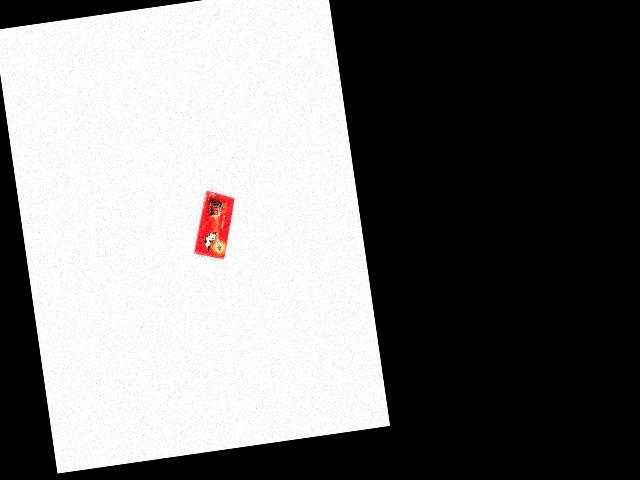chocolate: (185, 186, 243, 261)
